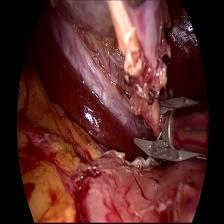Clipper: (132, 90, 201, 170)
